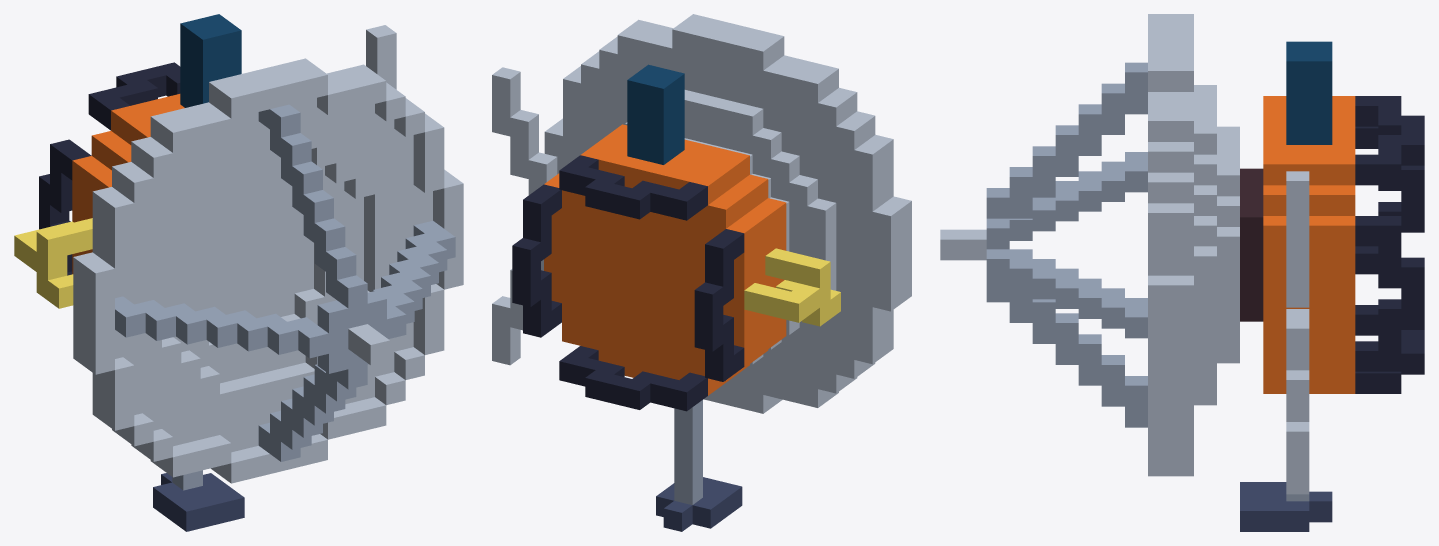
File: probe.glb
3 views of the same model, side by side, from view 1: azimuth 30°, elevation 25°; view 2: azimuth 150°, elevation 25°; view 3: azimuth 270°, elevation 25° (orthographic). The views are drawn at different scales.
Parts seen in each view (by area): view 1: ObjObject.006; view 2: ObjObject.006; view 3: ObjObject.006.
Part boxes in pixels (x1=…): ObjObject.006: x1=14, y1=14, x2=463, y2=531; ObjObject.006: x1=492, y1=14, x2=911, y2=531; ObjObject.006: x1=940, y1=14, x2=1424, y2=531.
Size of the model in its own units: 1.9 by 2.3 by 2.1.
Materials: 1 (1 with a texture image).
